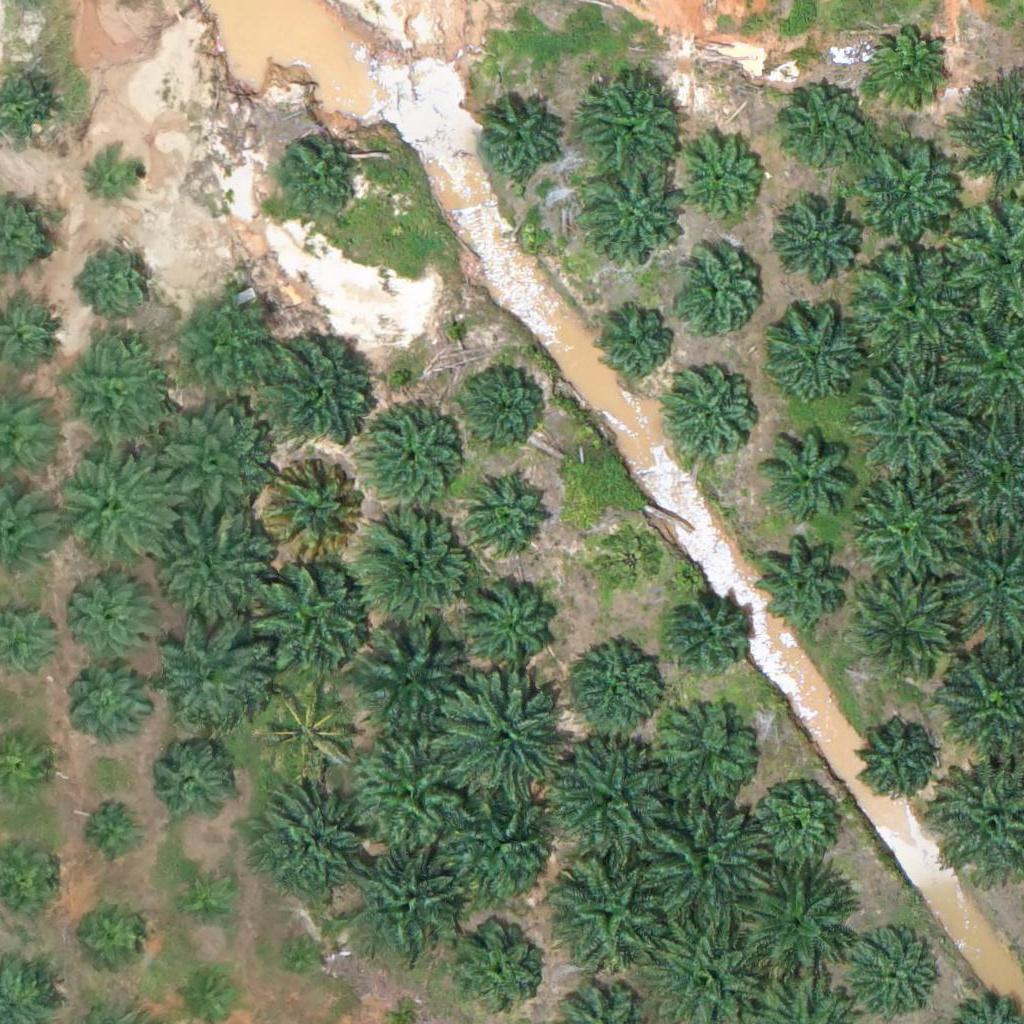Kelapa_Sawit: (52, 439, 177, 565), (851, 244, 976, 370), (255, 324, 380, 450), (249, 558, 374, 684), (152, 505, 277, 631), (149, 611, 274, 737), (351, 500, 476, 626), (347, 731, 472, 857), (254, 778, 379, 904), (435, 674, 560, 800), (444, 793, 569, 919), (540, 738, 665, 864), (542, 853, 667, 979), (641, 796, 766, 922), (737, 853, 862, 979), (340, 837, 465, 963), (144, 404, 269, 529), (350, 616, 475, 741), (250, 672, 363, 786), (257, 453, 370, 566), (647, 706, 760, 819), (169, 287, 281, 401), (358, 403, 470, 517), (59, 339, 171, 452), (849, 568, 961, 681), (853, 461, 965, 574), (853, 360, 965, 473), (66, 564, 166, 665), (861, 142, 961, 243), (757, 423, 857, 524), (756, 530, 856, 631), (584, 166, 684, 267), (580, 73, 680, 174), (459, 568, 559, 669), (562, 643, 662, 744), (448, 920, 548, 1021), (762, 304, 862, 404), (839, 922, 939, 1022), (752, 781, 840, 869), (64, 658, 152, 746), (783, 83, 871, 171), (676, 138, 764, 226), (673, 251, 761, 339), (665, 374, 753, 462), (475, 98, 563, 186), (664, 585, 751, 674), (274, 139, 361, 227), (593, 298, 680, 386), (863, 26, 950, 114), (777, 202, 864, 290), (144, 738, 231, 826), (467, 468, 554, 556), (462, 363, 549, 451), (82, 238, 157, 314), (593, 521, 668, 597), (71, 900, 146, 975), (859, 724, 934, 799), (174, 873, 237, 936), (87, 147, 149, 210), (81, 796, 143, 859), (273, 929, 323, 979)
